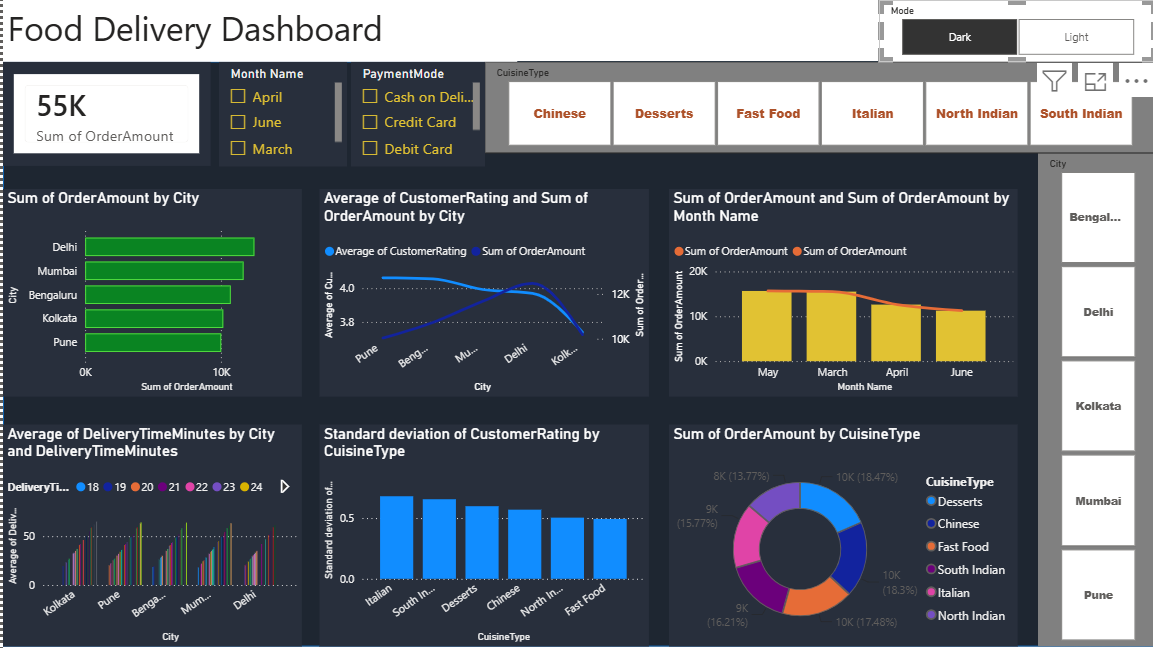

Layout of this report page (visuals, bound fields, positions):
{"tool":"powerbi","page":{"name":"Page 1","canvas":[1280,720],"ordinal":0},"visuals":[{"type":"shape","box":[0,67.9,1280.4,650],"z":0},{"type":"clusteredBarChart","fields":{"Category":["FoodDelivery.City"],"Y":["Sum(FoodDelivery.OrderAmount)"]},"box":[0,210.7,332.1,230.4],"z":1000},{"type":"donutChart","fields":{"Category":["FoodDelivery.CuisineType"],"Y":["Sum(FoodDelivery.OrderAmount)"]},"box":[739.3,471.4,387.5,246.4],"z":2000},{"type":"clusteredColumnChart","fields":{"Category":["FoodDelivery.City"],"Series":["FoodDelivery.DeliveryTimeMinutes"],"Y":["Avg(FoodDelivery.DeliveryTimeMinutes)"]},"box":[0,471.4,332.1,246.4],"z":3000},{"type":"clusteredColumnChart","fields":{"Category":["FoodDelivery.CuisineType"],"Y":["Avg(FoodDelivery.CustomerRating)"]},"box":[351.8,471.4,366.1,246.4],"z":4000},{"type":"cardVisual","fields":{"Data":["Sum(FoodDelivery.OrderAmount)"]},"box":[0,67.9,230.4,116.1],"z":5000},{"type":"slicer","fields":{"Values":["FoodDelivery.City"]},"box":[1150,169.6,132.1,548.2],"z":6000},{"type":"slicer","fields":{"Values":["FoodDelivery.CuisineType"]},"box":[535.7,67.9,744.6,101.8],"z":7000},{"type":"lineChart","fields":{"Category":["FoodDelivery.City"],"Y":["Avg(FoodDelivery.CustomerRating)"],"Y2":["Sum(FoodDelivery.OrderAmount)"]},"box":[351.8,210.7,366.1,230.4],"z":8000},{"type":"lineStackedColumnComboChart","fields":{"Category":["FoodDelivery.Month Name"],"Y":["Sum(FoodDelivery.OrderAmount)"],"Y2":["Sum(FoodDelivery.OrderAmount)"]},"box":[739.3,210.7,387.5,230.4],"z":9000},{"type":"slicer","fields":{"Values":["FoodDelivery.Month Name"]},"box":[245,66.7,141.4,115.7],"z":10000},{"type":"slicer","fields":{"Values":["FoodDelivery.PaymentMode"]},"box":[387.5,67.9,148.6,115.7],"z":11000},{"type":"slicer","fields":{"Values":["Table.Mode"]},"box":[973.2,0,307.1,67.9],"z":12000},{"type":"textbox","box":[0,0,571.4,68.6],"z":13000}]}

Visuals, with their boxes in screenshot pixels (x1, y1, x2, y2):
shape: (left=0, top=60, right=1152, bottom=647)
clusteredBarChart - FoodDelivery.City x Sum(FoodDelivery.OrderAmount): (left=0, top=191, right=306, bottom=403)
donutChart - FoodDelivery.CuisineType x Sum(FoodDelivery.OrderAmount): (left=681, top=431, right=1038, bottom=647)
clusteredColumnChart - FoodDelivery.City x FoodDelivery.DeliveryTimeMinutes: (left=0, top=431, right=306, bottom=647)
clusteredColumnChart - FoodDelivery.CuisineType x Avg(FoodDelivery.CustomerRating): (left=324, top=431, right=661, bottom=647)
cardVisual - Sum(FoodDelivery.OrderAmount): (left=0, top=60, right=212, bottom=166)
slicer - FoodDelivery.City: (left=1059, top=153, right=1152, bottom=647)
slicer - FoodDelivery.CuisineType: (left=493, top=60, right=1152, bottom=153)
lineChart - FoodDelivery.City x Avg(FoodDelivery.CustomerRating): (left=324, top=191, right=661, bottom=403)
lineStackedColumnComboChart - FoodDelivery.Month Name x Sum(FoodDelivery.OrderAmount): (left=681, top=191, right=1038, bottom=403)
slicer - FoodDelivery.Month Name: (left=226, top=58, right=356, bottom=165)
slicer - FoodDelivery.PaymentMode: (left=357, top=60, right=494, bottom=166)
slicer - Table.Mode: (left=896, top=0, right=1152, bottom=60)
textbox: (left=0, top=0, right=526, bottom=60)
